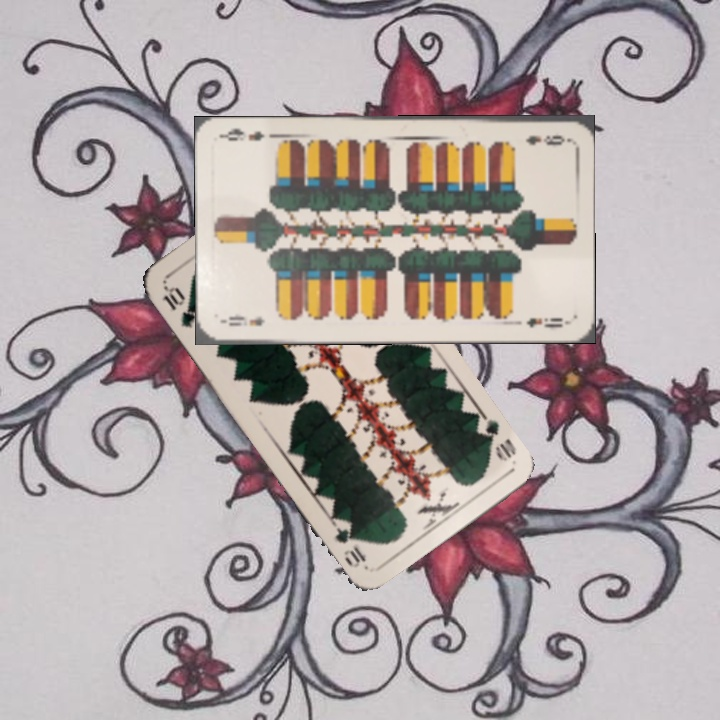E9: (220, 311, 268, 329), (522, 131, 567, 148)
G10: (476, 412, 519, 464), (158, 282, 198, 331)
